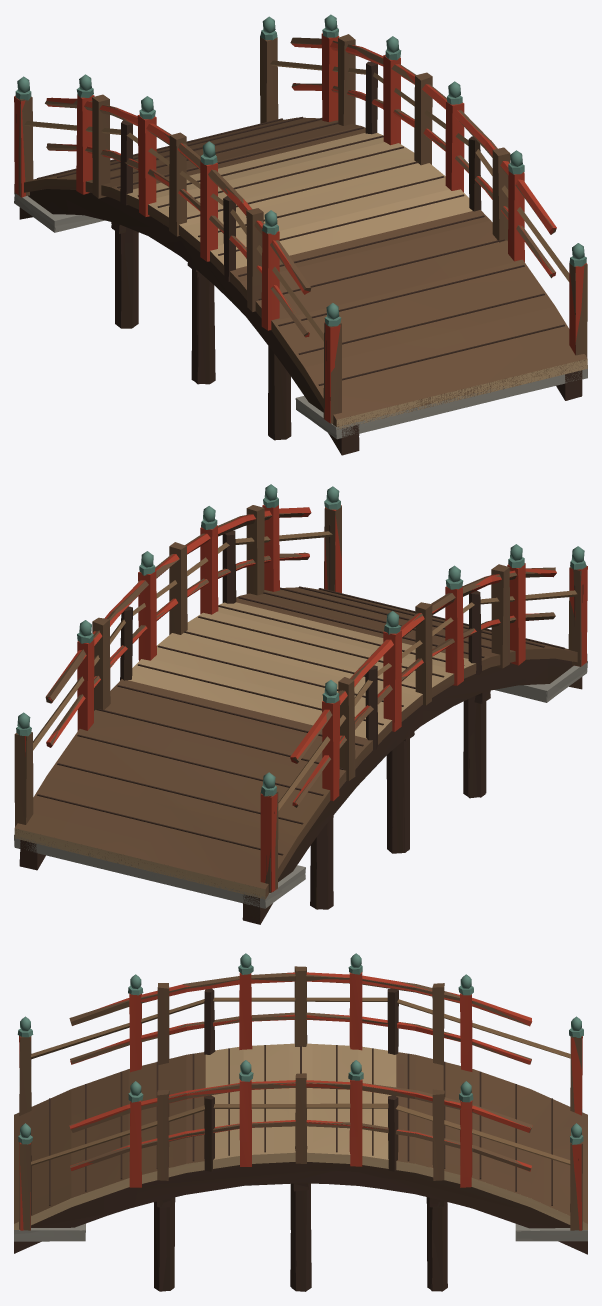
The model's file is bridge.wooden.glb.
3 views of the same model, one above another, from view 1: azimuth 30°, elevation 25°; view 2: azimuth 150°, elevation 25°; view 3: azimuth 270°, elevation 25° (orthographic). The views are drawn at different scales.
Visible parts, largest first — view 1: bridge.wooden.v2.mesh, bridge.wooden.v0.mesh, bridge.wooden.v1.mesh; view 2: bridge.wooden.v2.mesh, bridge.wooden.v0.mesh, bridge.wooden.v1.mesh; view 3: bridge.wooden.v2.mesh, bridge.wooden.v0.mesh, bridge.wooden.v1.mesh.
Boxes of the visible parts, x1,y1,x2,y2 form: bridge.wooden.v2.mesh: [14, 60, 587, 455]; bridge.wooden.v0.mesh: [14, 14, 587, 454]; bridge.wooden.v1.mesh: [14, 34, 587, 454]; bridge.wooden.v2.mesh: [14, 524, 587, 923]; bridge.wooden.v0.mesh: [14, 484, 587, 923]; bridge.wooden.v1.mesh: [14, 505, 587, 924]; bridge.wooden.v2.mesh: [14, 988, 587, 1291]; bridge.wooden.v0.mesh: [14, 953, 583, 1291]; bridge.wooden.v1.mesh: [14, 966, 587, 1291].
Size of the model in its own units: 1.86 by 1.84 by 4.
